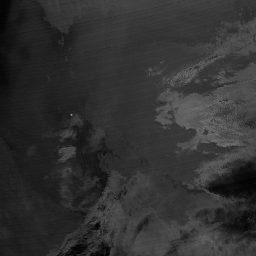Target: (68, 112, 73, 117)
